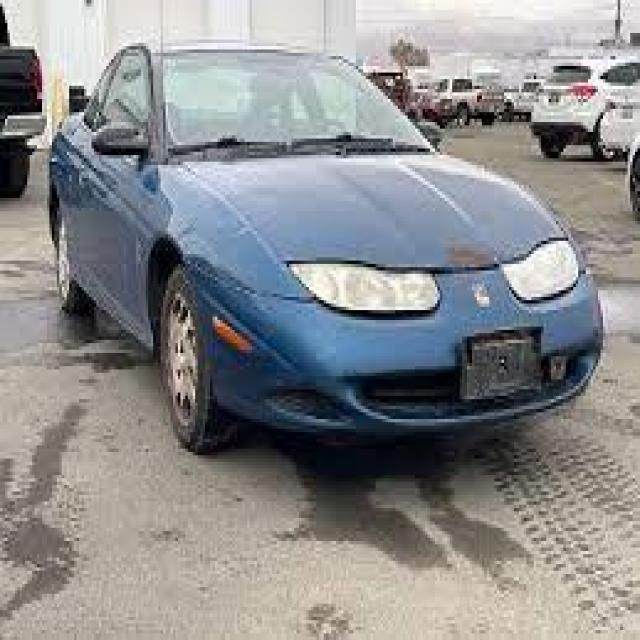minor: (411, 192, 507, 338)
